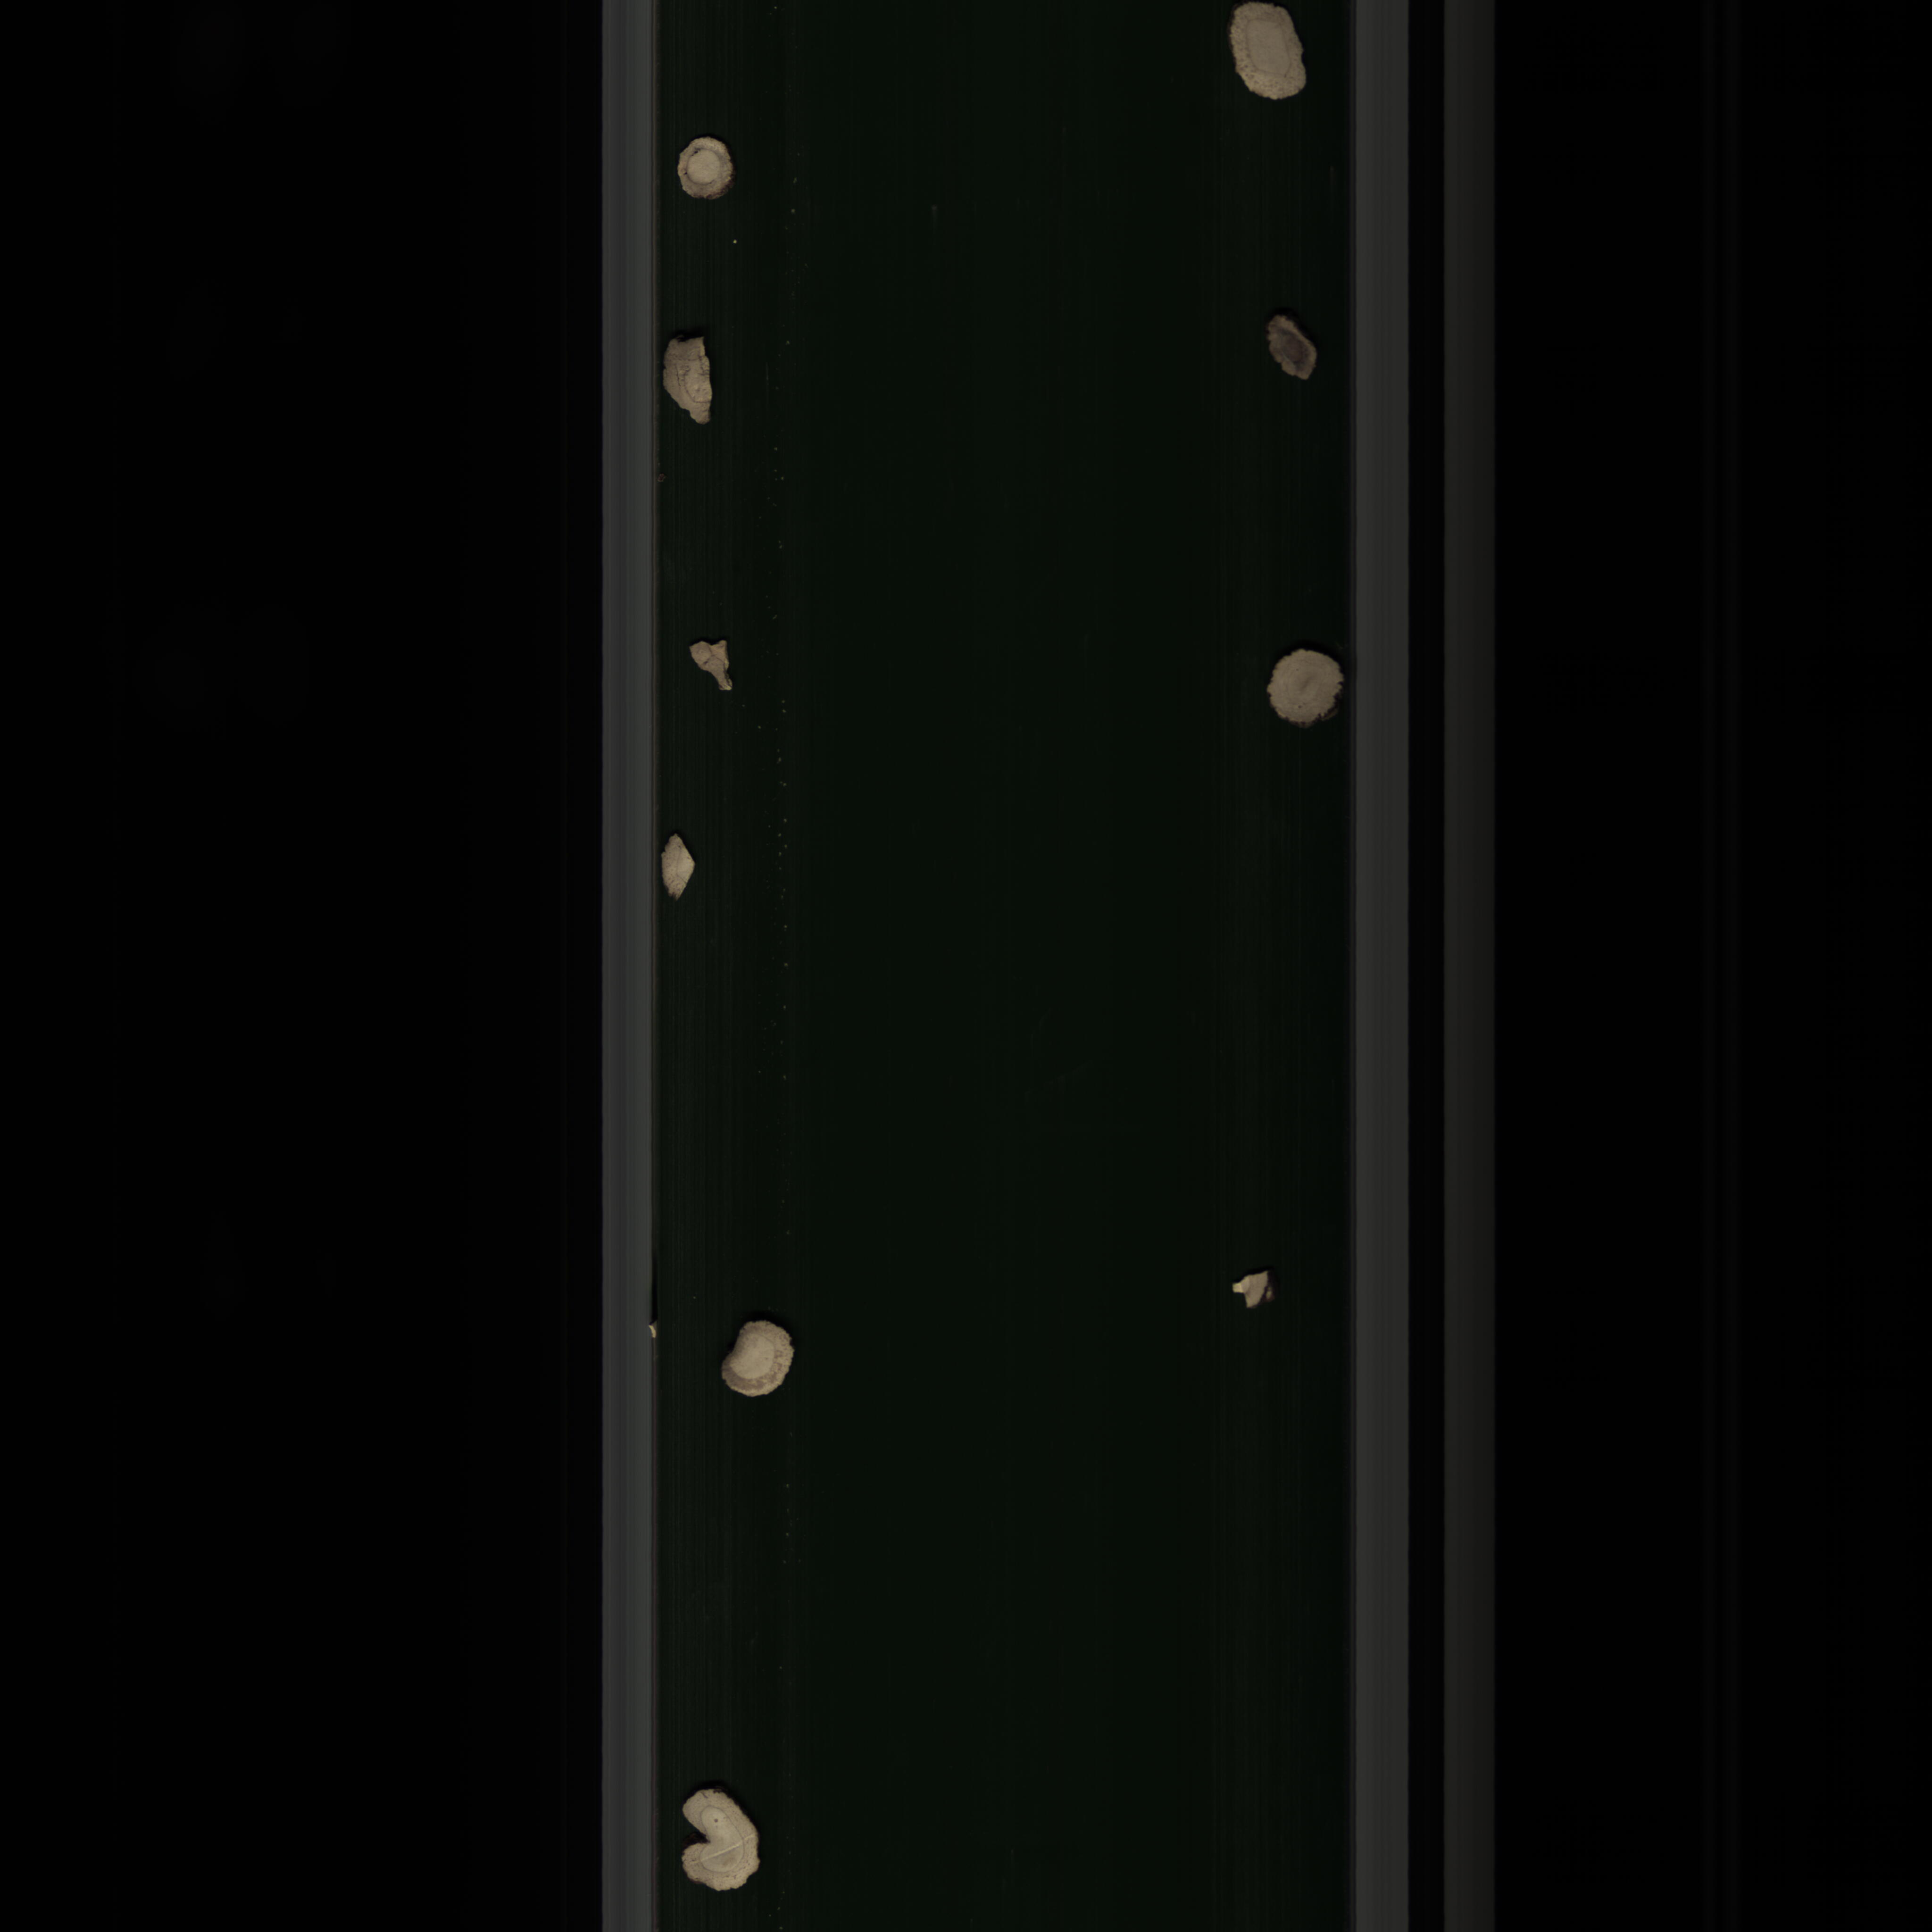bark: (1223, 1263, 1300, 1315)
debris: (655, 331, 722, 428), (679, 625, 734, 702), (656, 823, 702, 902)
distortion: (674, 1775, 773, 1900)
moldy: (1254, 306, 1325, 395)
